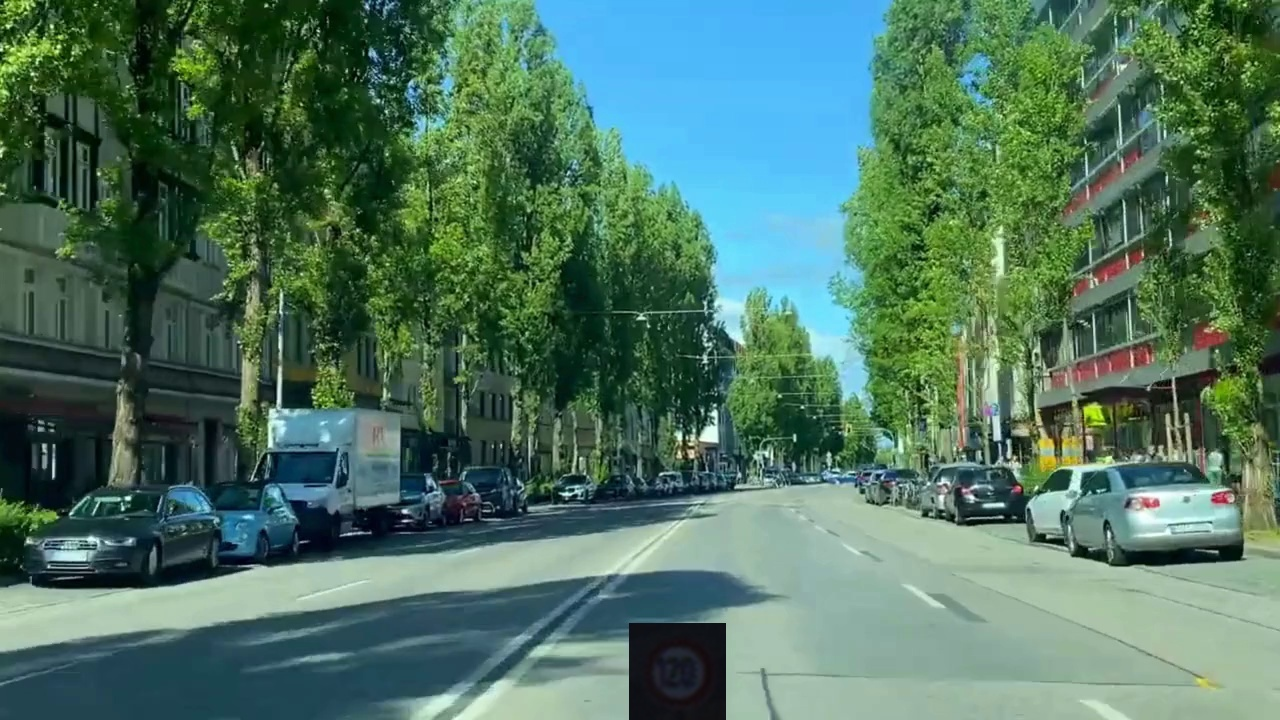Speed 120: (629, 623, 726, 720)
